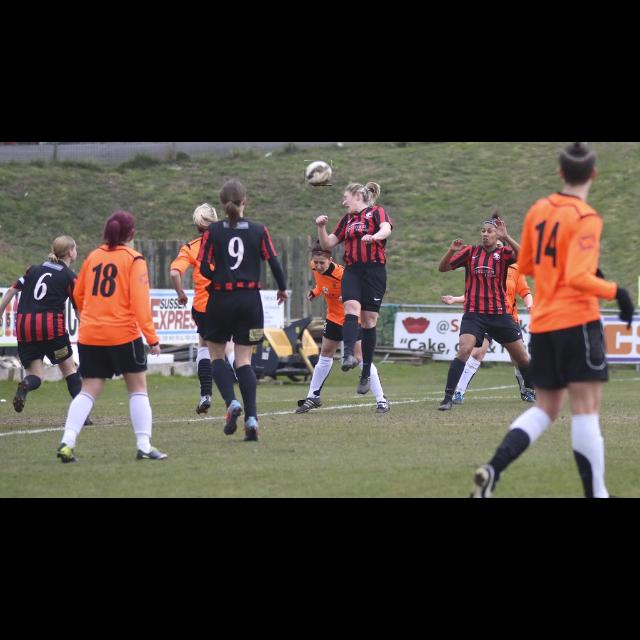Football: (304, 160, 332, 186)
